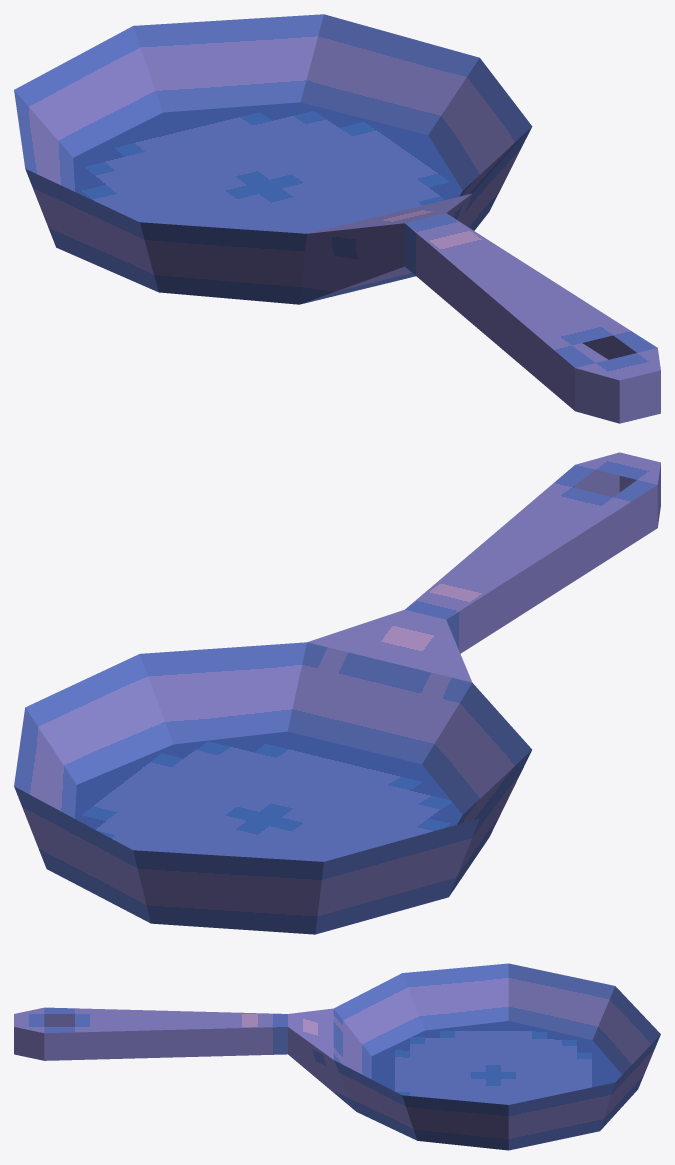
The model's file is pan.fbx.
3 views of the same model, one above another, from view 1: azimuth 30°, elevation 25°; view 2: azimuth 150°, elevation 25°; view 3: azimuth 270°, elevation 25° (orthographic). The views are drawn at different scales.
Parts seen in each view (by area): view 1: pan; view 2: pan; view 3: pan.
Boxes of the visible parts, box(x1,y1,x2,y2) form: pan: box(14, 14, 660, 423); pan: box(14, 452, 660, 934); pan: box(14, 963, 660, 1150).
Bounding box in the file's own units: 4400 × 1000 × 8500.
Materials: 1 (1 with a texture image).
